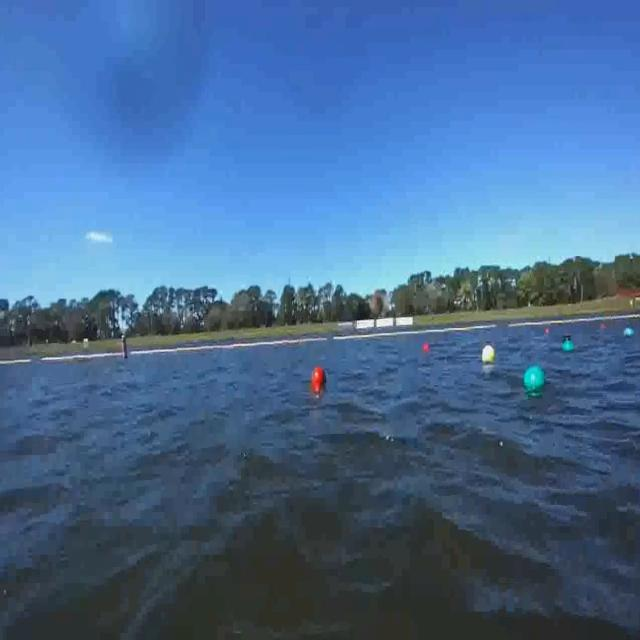green-buoy: (526, 365, 548, 391), (564, 342, 574, 355), (624, 327, 635, 337)
red-buoy: (313, 366, 327, 386), (422, 344, 430, 354)
yellow-buoy: (482, 345, 497, 363)
